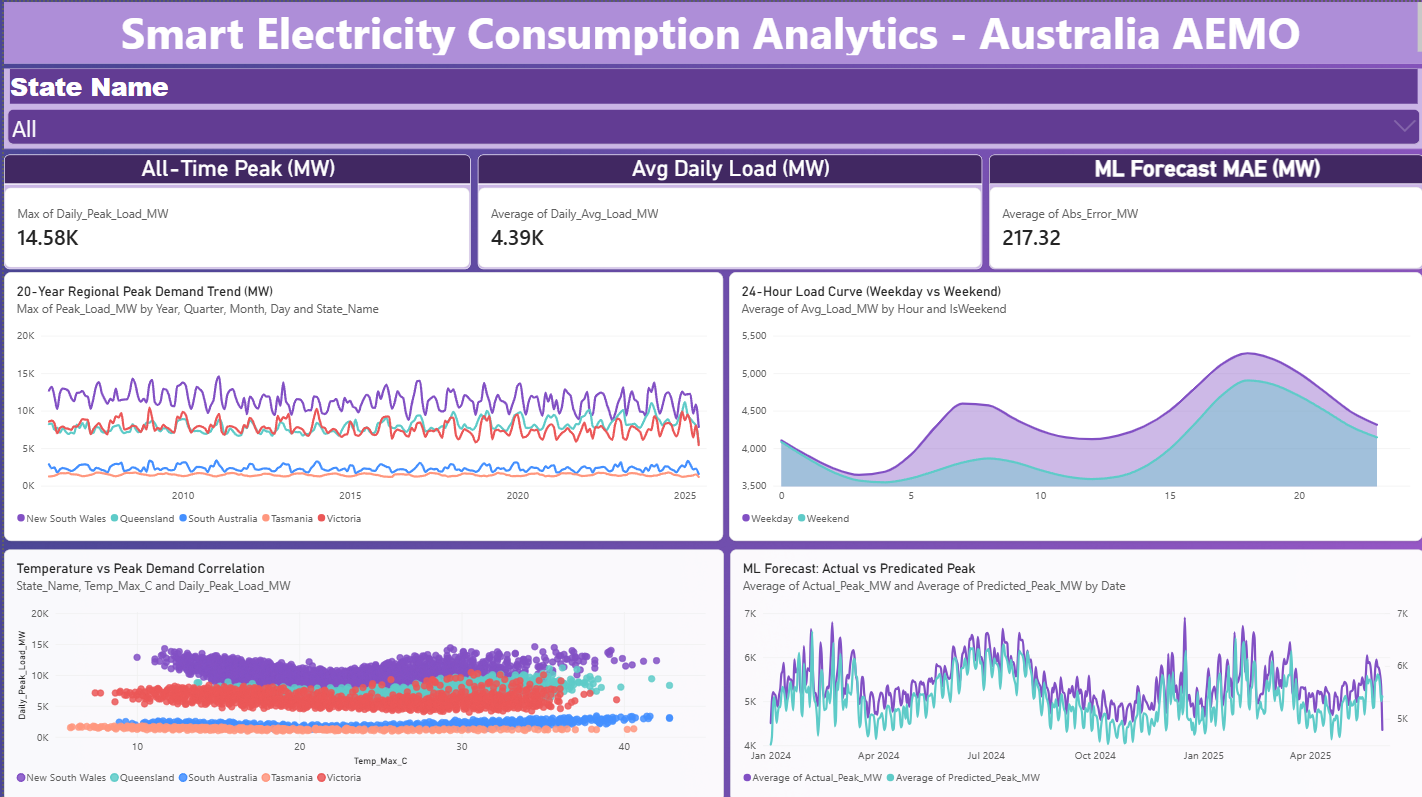

The page's visual inventory and layout, read from the dashboard file:
{"tool":"powerbi","page":{"name":"Page 1","canvas":[1920,1080],"ordinal":0},"visuals":[{"type":"shape","box":[0,0,1920,83.3],"z":0},{"type":"textbox","box":[0,0,1920,71.7],"z":1},{"type":"slicer","fields":{"Values":["Dim_State.State_Name"]},"box":[0,90,1920,108.6],"z":2},{"type":"cardVisual","title":"All-Time Peak (MW)","fields":{"Data":["Max(gold_daily_peak_demand.Daily_Peak_Load_MW)"]},"box":[0,205.5,631.2,155],"z":3},{"type":"cardVisual","title":"Avg Daily Load (MW)","fields":{"Data":["Avg(gold_daily_peak_demand.Daily_Avg_Load_MW)"]},"box":[640,205.5,682.5,155],"z":4},{"type":"cardVisual","title":"ML Forecast MAE (MW)","fields":{"Data":["Avg(gold_ml_peak_predictions.Abs_Error_MW)"]},"box":[1331.8,205.5,588.8,155],"z":5},{"type":"lineChart","title":"20-Year Regional Peak Demand Trend (MW)","fields":{"Category":["gold_regional_monthly_summary.YearMonth.Variation.Date Hierarchy.Year","gold_regional_monthly_summary.YearMonth.Variation.Date Hierarchy.Quarter","gold_regional_monthly_summary.YearMonth.Variation.Date Hierarchy.Month","gold_regional_monthly_summary.YearMonth.Variation.Date Hierarchy.Day"],"Series":["gold_regional_monthly_summary.State_Name"],"Y":["Max(gold_regional_monthly_summary.Peak_Load_MW)"]},"box":[0,365.8,972.9,364.3],"z":6},{"type":"areaChart","title":"24-Hour Load Curve (Weekday vs Weekend)","fields":{"Category":["gold_hourly_demand_profile.Hour"],"Series":["gold_hourly_demand_profile.IsWeekend"],"Y":["Avg(gold_hourly_demand_profile.Avg_Load_MW)"]},"box":[981.4,365.7,938.6,364.3],"z":7},{"type":"scatterChart","title":"Temperature vs Peak Demand Correlation","fields":{"Series":["gold_daily_peak_demand.State_Name"],"X":["gold_daily_peak_demand.Temp_Max_C"],"Y":["gold_daily_peak_demand.Daily_Peak_Load_MW"]},"box":[0,740,973.6,340],"z":8},{"type":"lineChart","title":"ML Forecast: Actual vs Predicated Peak","fields":{"Category":["gold_ml_peak_predictions.Date"],"Y":["Avg(gold_ml_peak_predictions.Actual_Peak_MW)"],"Y2":["Avg(gold_ml_peak_predictions.Predicted_Peak_MW)"]},"box":[981.8,740,938.2,340],"z":9}]}

Visuals, with their boxes in screenshot pixels (x1, y1, x2, y2), scaled from the page's 1920x1080 canvas onto the 1422x797 screenshot:
shape: rect(0, 0, 1421, 61)
textbox: rect(0, 0, 1421, 53)
slicer - Dim_State.State_Name: rect(0, 66, 1421, 147)
"All-Time Peak (MW)" cardVisual: rect(0, 152, 467, 266)
"Avg Daily Load (MW)" cardVisual: rect(474, 152, 979, 266)
"ML Forecast MAE (MW)" cardVisual: rect(986, 152, 1421, 266)
"20-Year Regional Peak Demand Trend (MW)" lineChart: rect(0, 270, 721, 539)
"24-Hour Load Curve (Weekday vs Weekend)" areaChart: rect(727, 270, 1421, 539)
"Temperature vs Peak Demand Correlation" scatterChart: rect(0, 546, 721, 796)
"ML Forecast: Actual vs Predicated Peak" lineChart: rect(727, 546, 1421, 796)
